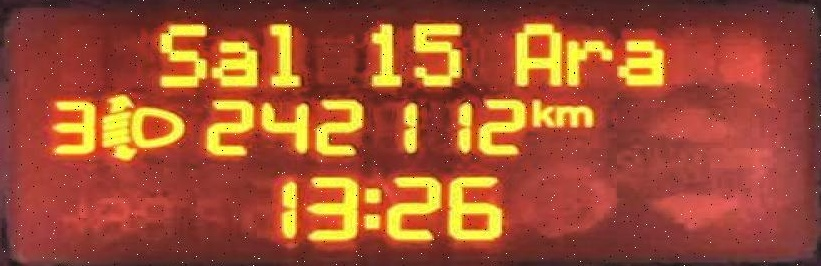1: (367, 14, 402, 88), (273, 168, 300, 244), (391, 95, 420, 156), (453, 98, 472, 157)
2: (387, 170, 442, 243), (475, 91, 523, 159), (313, 92, 362, 158), (201, 99, 250, 164)
3: (305, 172, 356, 245), (47, 94, 97, 160)
4: (256, 97, 310, 158)
5: (408, 19, 465, 88)
6: (443, 172, 505, 243)
X: (512, 17, 563, 90), (157, 18, 208, 89), (260, 16, 305, 94), (618, 37, 663, 90), (215, 39, 260, 90), (563, 36, 612, 81), (358, 180, 383, 235), (555, 101, 595, 130), (525, 96, 553, 129)
